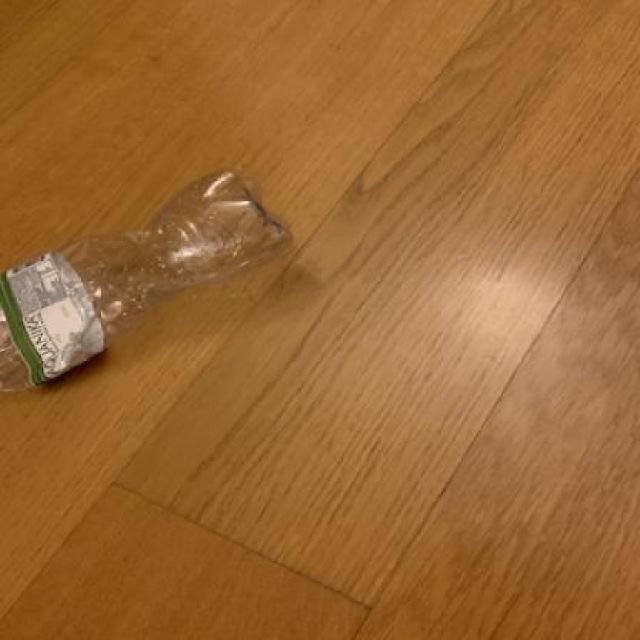trash: (3, 161, 305, 393)
